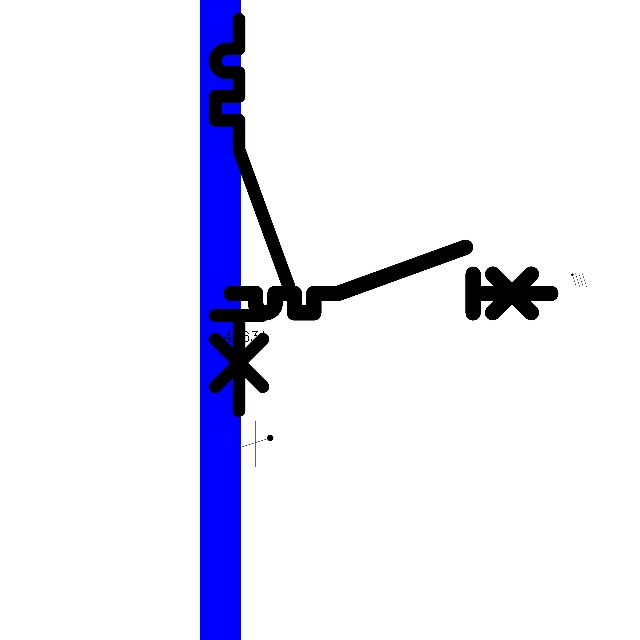interruptor_termomagnetico: (205, 9, 305, 420), (223, 239, 559, 321)
